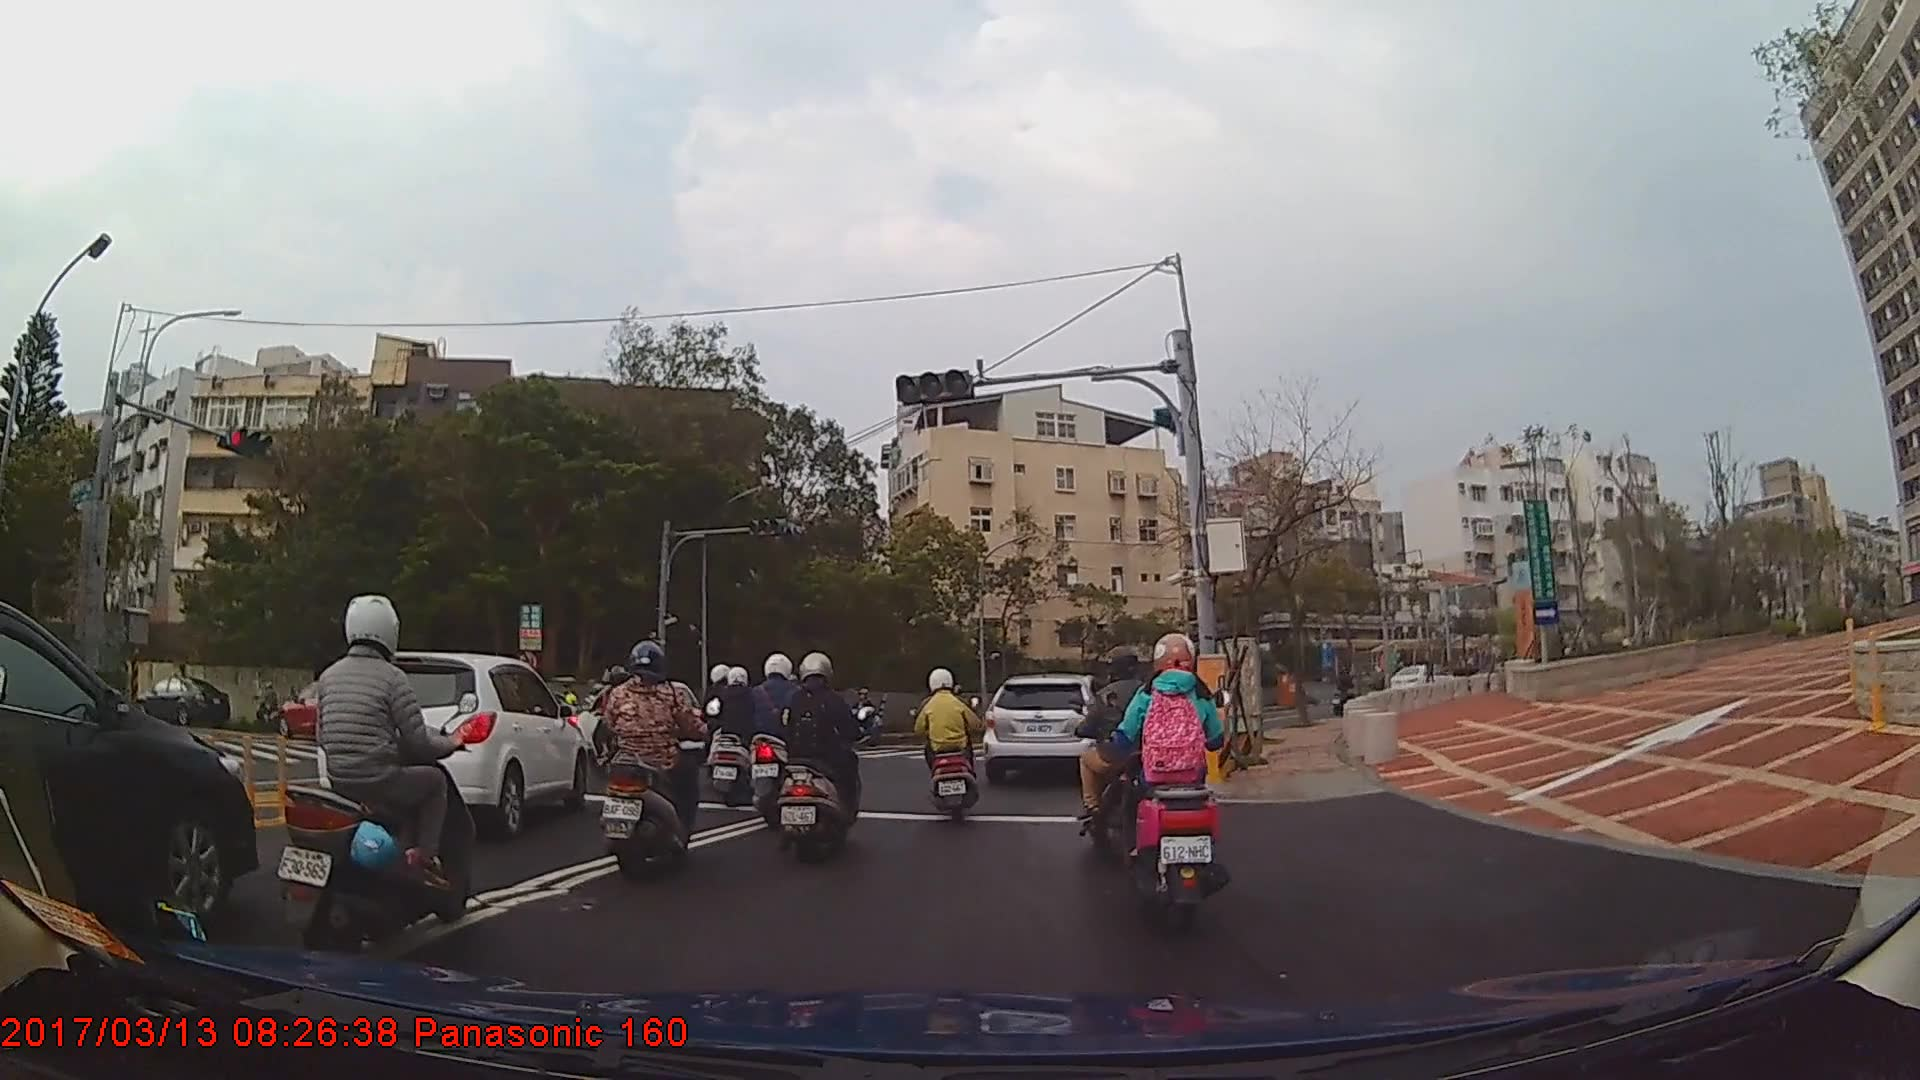rider: (274, 595, 479, 959), (1116, 635, 1231, 924), (593, 641, 710, 890), (1070, 645, 1174, 860), (775, 651, 871, 868), (742, 652, 817, 828), (913, 669, 990, 822), (709, 669, 773, 807), (850, 688, 884, 749)
vehicle: (0, 598, 257, 922), (315, 653, 585, 845), (982, 675, 1123, 787), (279, 676, 381, 738), (126, 674, 230, 727), (1388, 664, 1455, 699)
